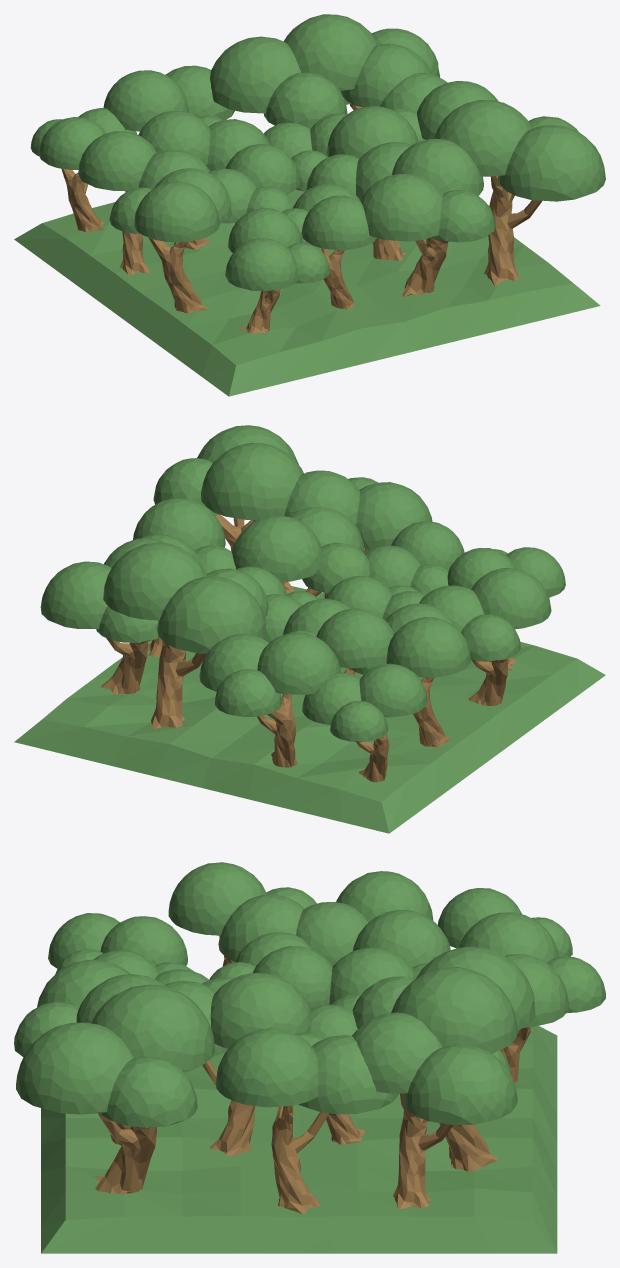
File: trees8x8.FBX
3 views of the same model, one above another, from view 1: azimuth 30°, elevation 25°; view 2: azimuth 150°, elevation 25°; view 3: azimuth 270°, elevation 25° (orthographic). The views are drawn at different scales.
Visible parts, largest first — view 1: Plane001; view 2: Plane001; view 3: Plane001.
Boxes of the visible parts, x1,y1,x2,y2 form: Plane001: (14,14,605,396); Plane001: (14,425,605,833); Plane001: (14,862,605,1253).
Size of the model in its own units: 9.81 by 10.13 by 4.21.
